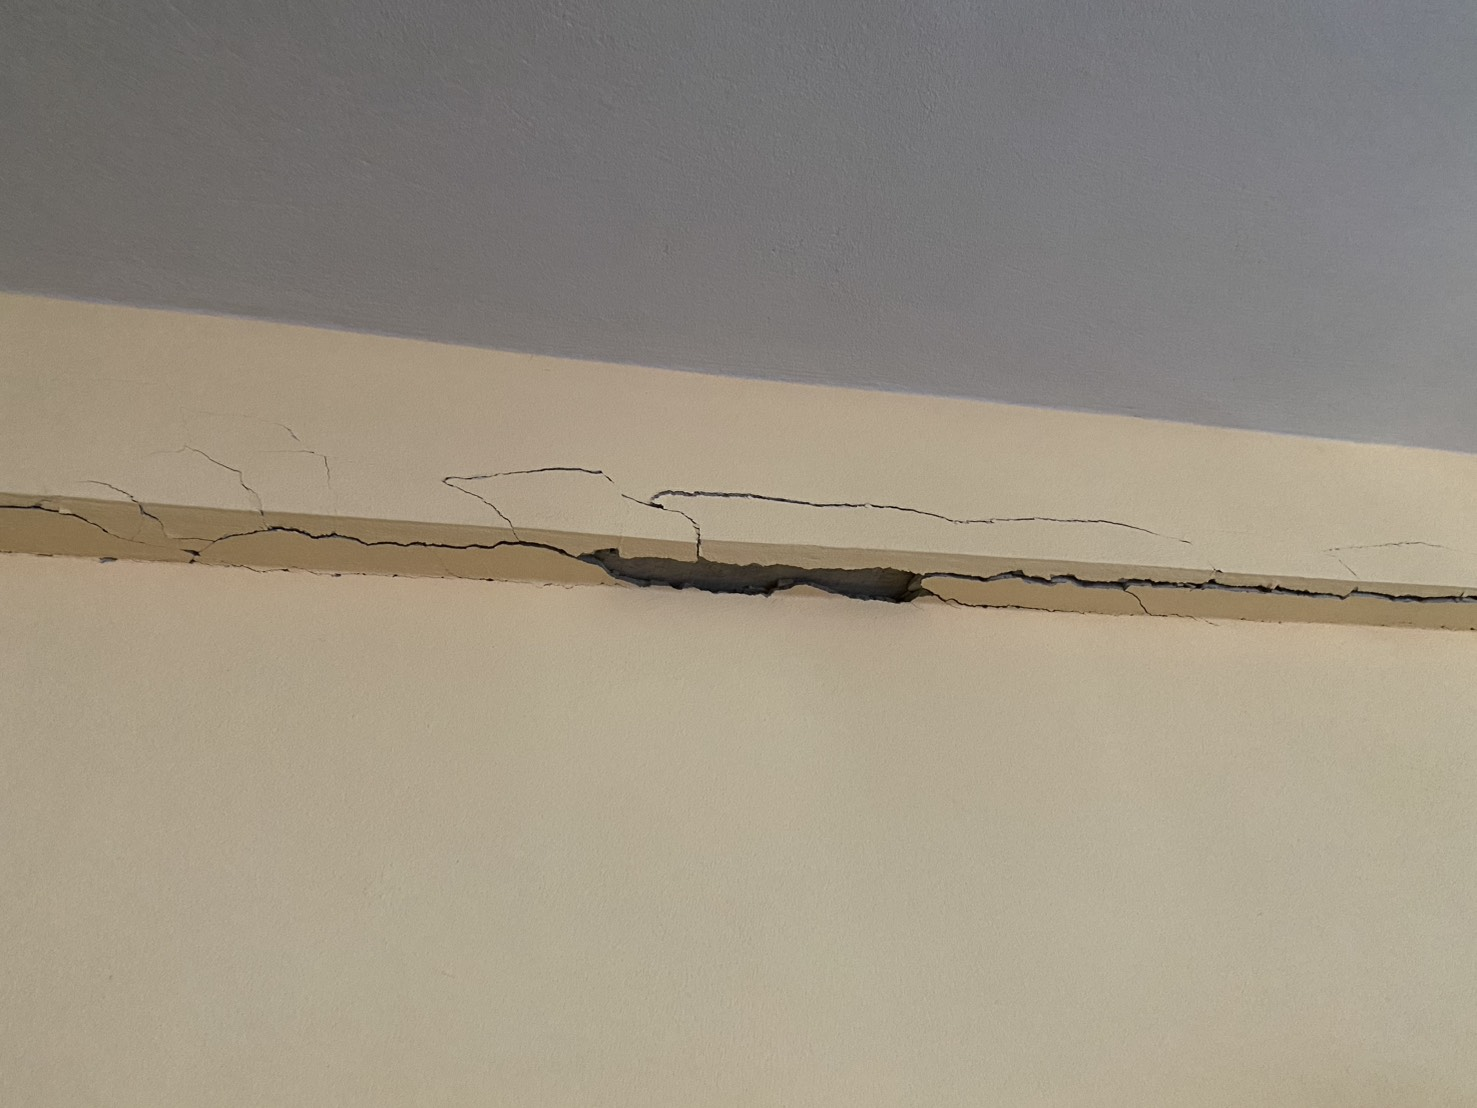Medium: (206, 405, 1394, 628)
